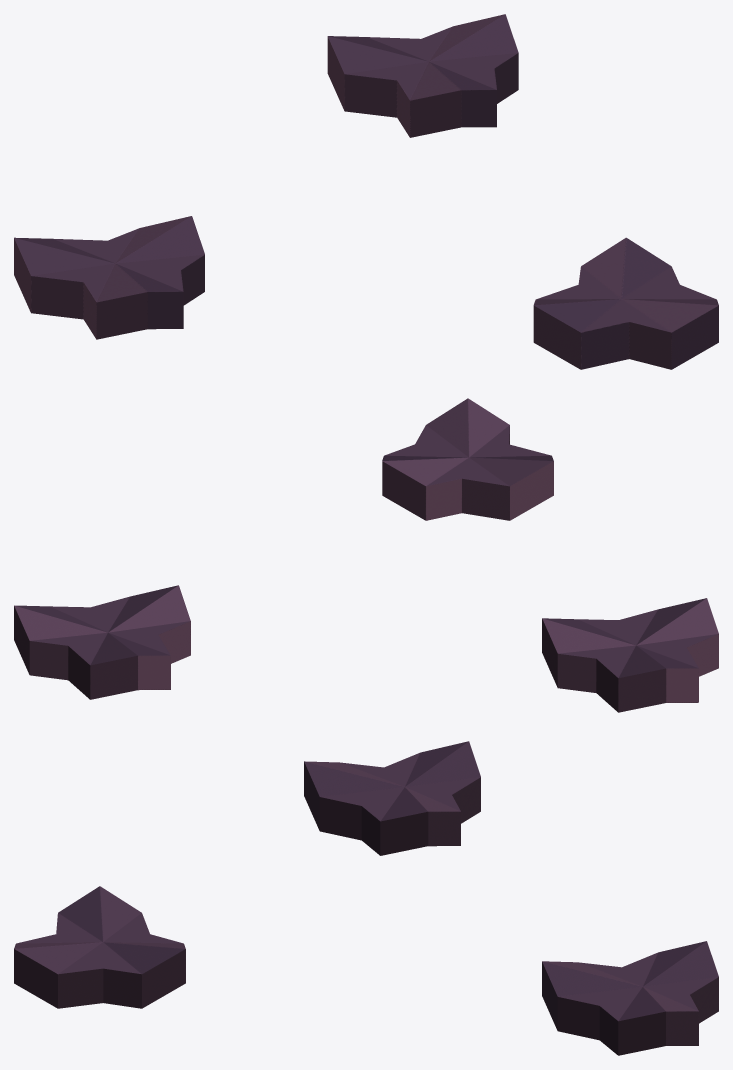
Rendered from Fleur.obj.
The picture shows the model from 3 angles, top to bottom: view 1: azimuth 30°, elevation 25°; view 2: azimuth 150°, elevation 25°; view 3: azimuth 270°, elevation 25°; orthographic projection. The views are drawn at different scales.
Visible parts, largest first — view 1: Fleur; view 2: Fleur; view 3: Fleur.
Boxes of the visible parts, box(x1,y1,x2,y2) form: Fleur: box(14, 14, 718, 369); Fleur: box(14, 398, 718, 712); Fleur: box(14, 741, 718, 1055).
Size of the model in its own units: 0.1755 by 0.0149 by 0.1904.
Materials: 1 (1 with a texture image).
